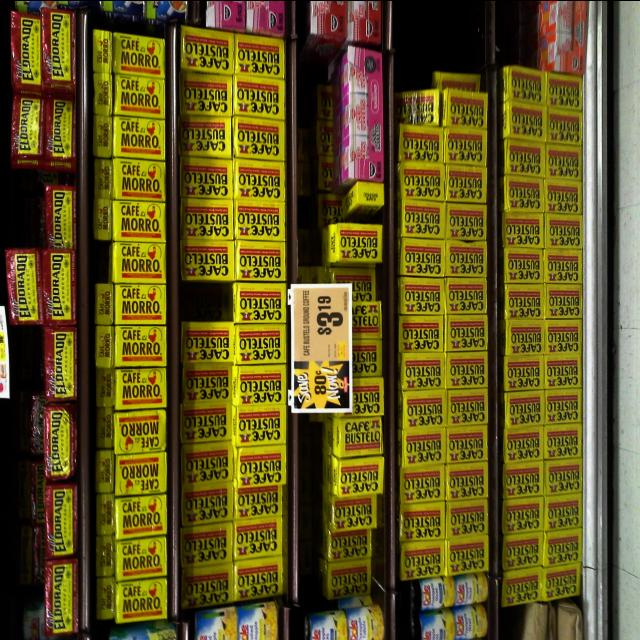empty_space: (408, 0, 488, 60)
